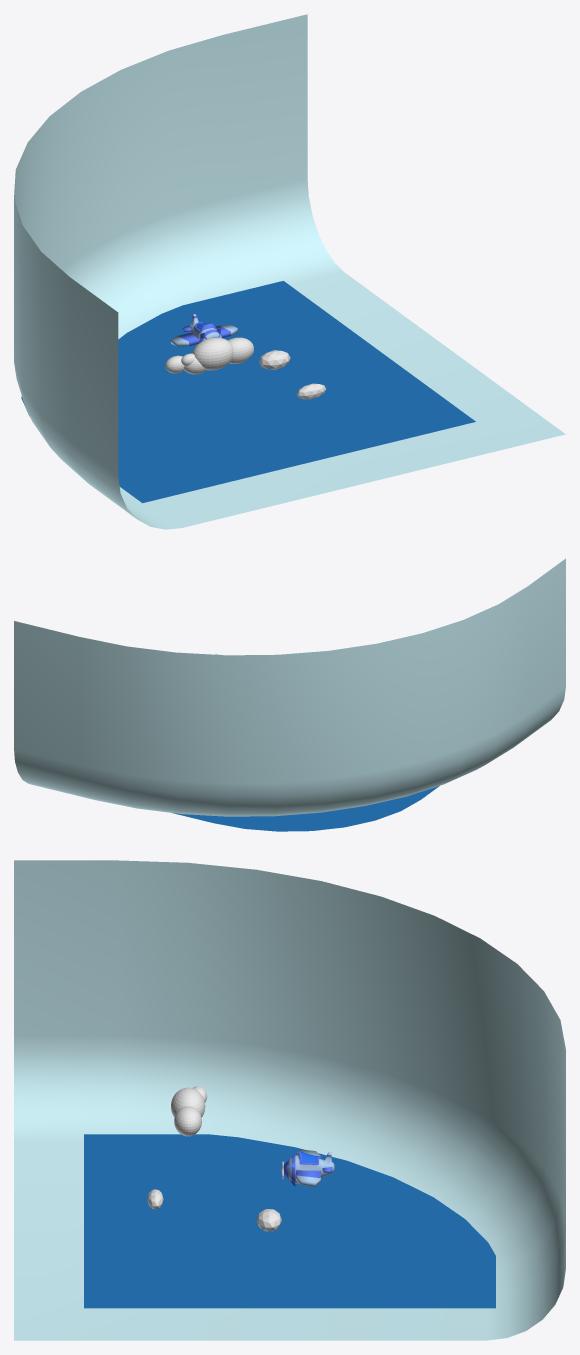
File: 小飞机.glb
3 views of the same model, one above another, from view 1: azimuth 30°, elevation 25°; view 2: azimuth 150°, elevation 25°; view 3: azimuth 270°, elevation 25° (orthographic). The views are drawn at different scales.
Visible parts, largest first — view 1: 天空, 海面, 云3; view 2: 天空, 海面; view 3: 天空, 海面, 云3, Cube.
Part boxes in pixels (x1,y1,x2,y2): 天空: [14, 14, 565, 529]; 海面: [21, 281, 475, 503]; 云3: [165, 337, 253, 374]; 天空: [14, 558, 565, 816]; 海面: [172, 786, 439, 831]; 天空: [14, 860, 565, 1340]; 海面: [84, 1134, 495, 1308]; 云3: [171, 1086, 207, 1136]; Cube: [288, 1150, 334, 1183].
Size of the model in its own units: 63.13 by 31.14 by 63.13.
